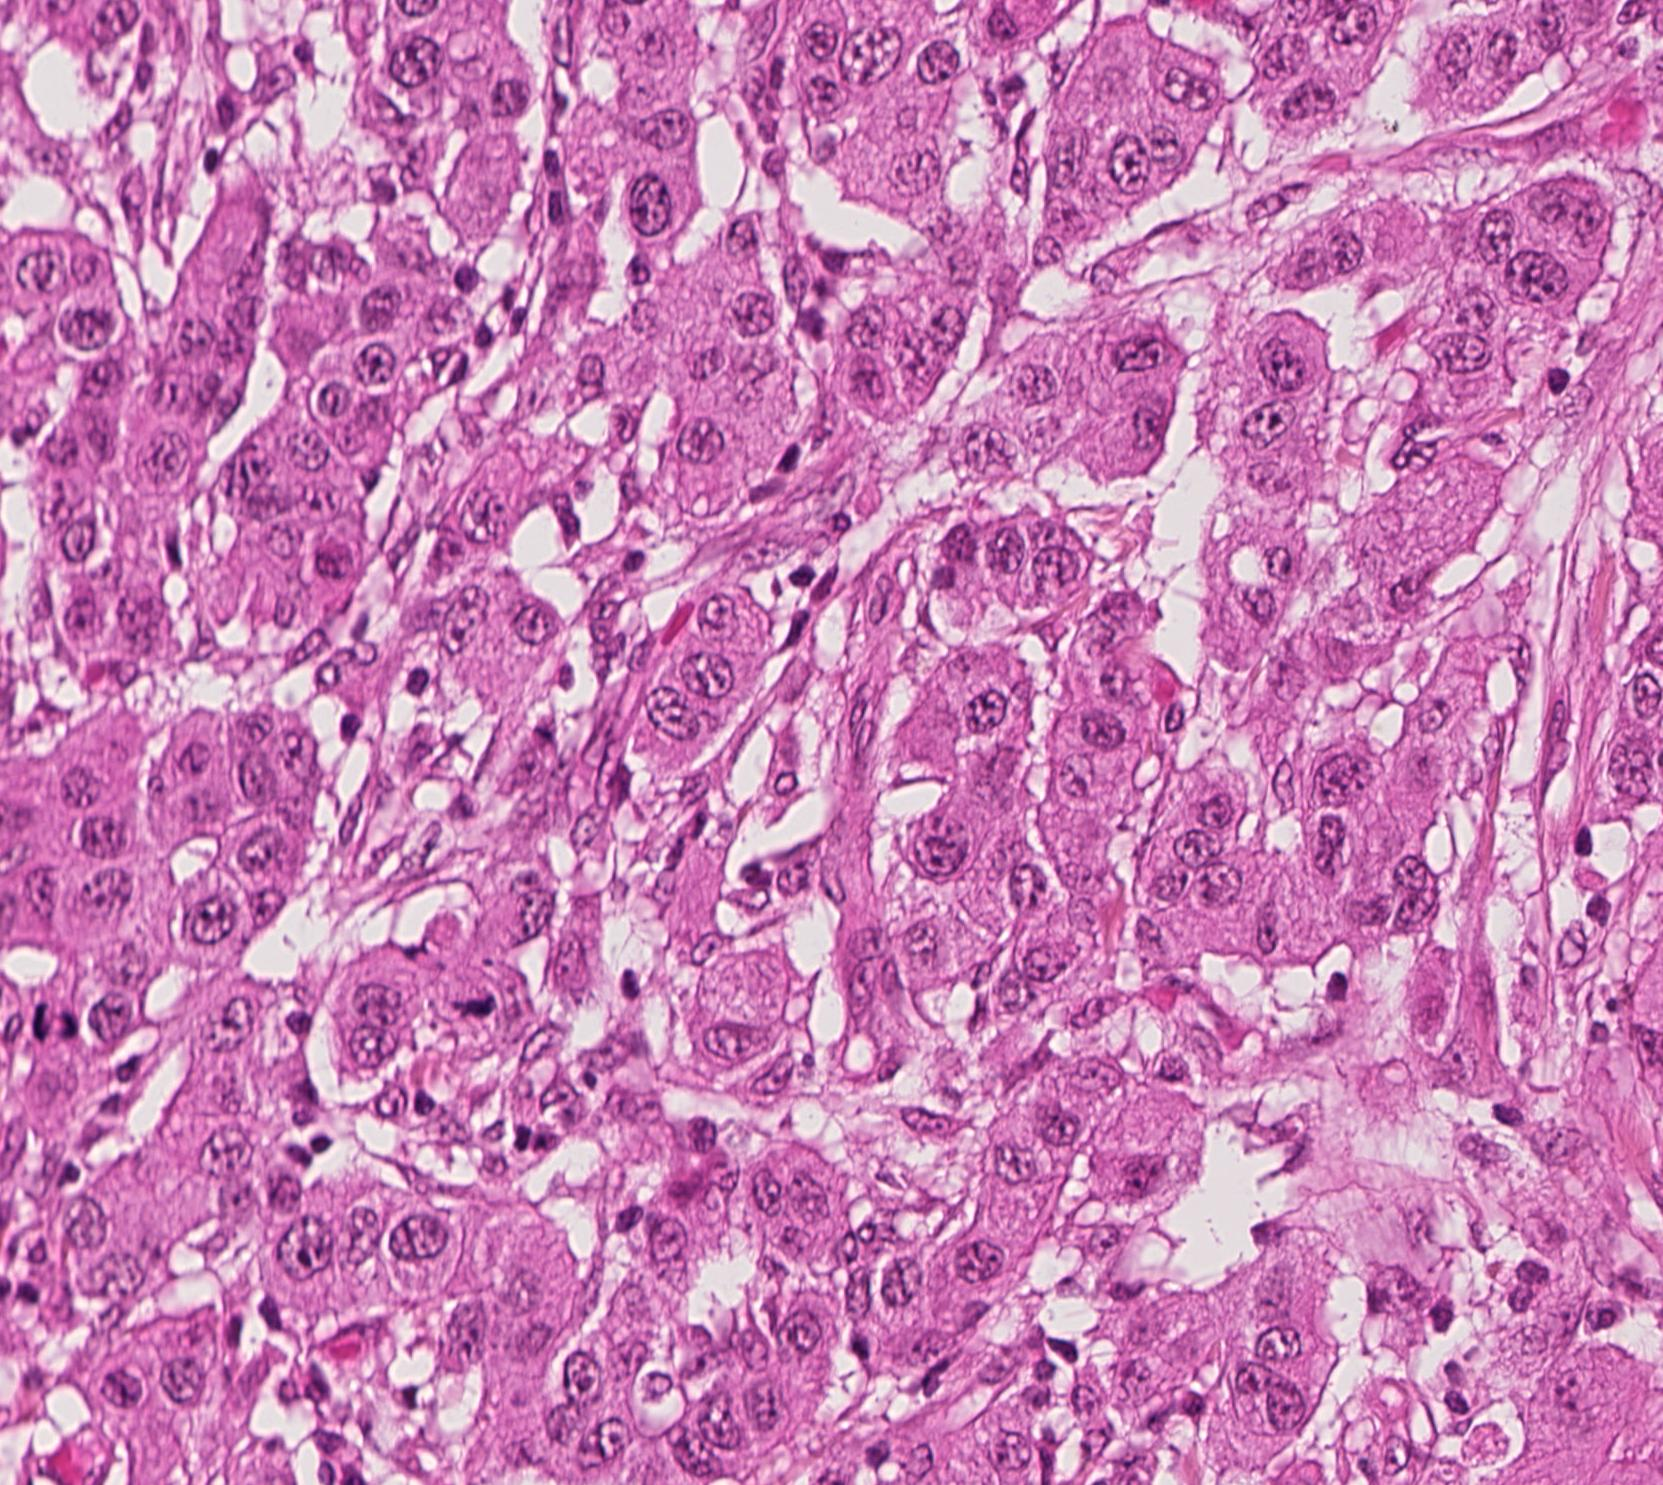mitosis: (24, 990, 85, 1051), (447, 975, 508, 1033)
